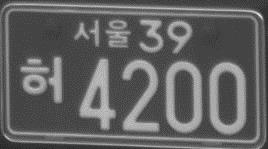0: (162, 59, 204, 133), (208, 60, 247, 136)
2: (120, 57, 162, 134)
3: (136, 16, 164, 54)
4: (76, 57, 117, 131)
9: (162, 18, 194, 55)
서울_O: (73, 17, 133, 49)
허: (19, 54, 65, 104)
